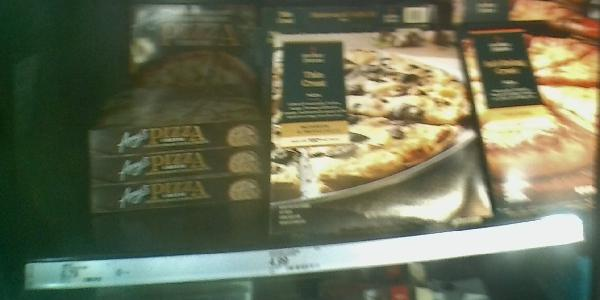pizza1: (269, 17, 491, 241)
pizza2: (91, 175, 263, 213), (91, 145, 270, 180), (83, 125, 265, 154)
